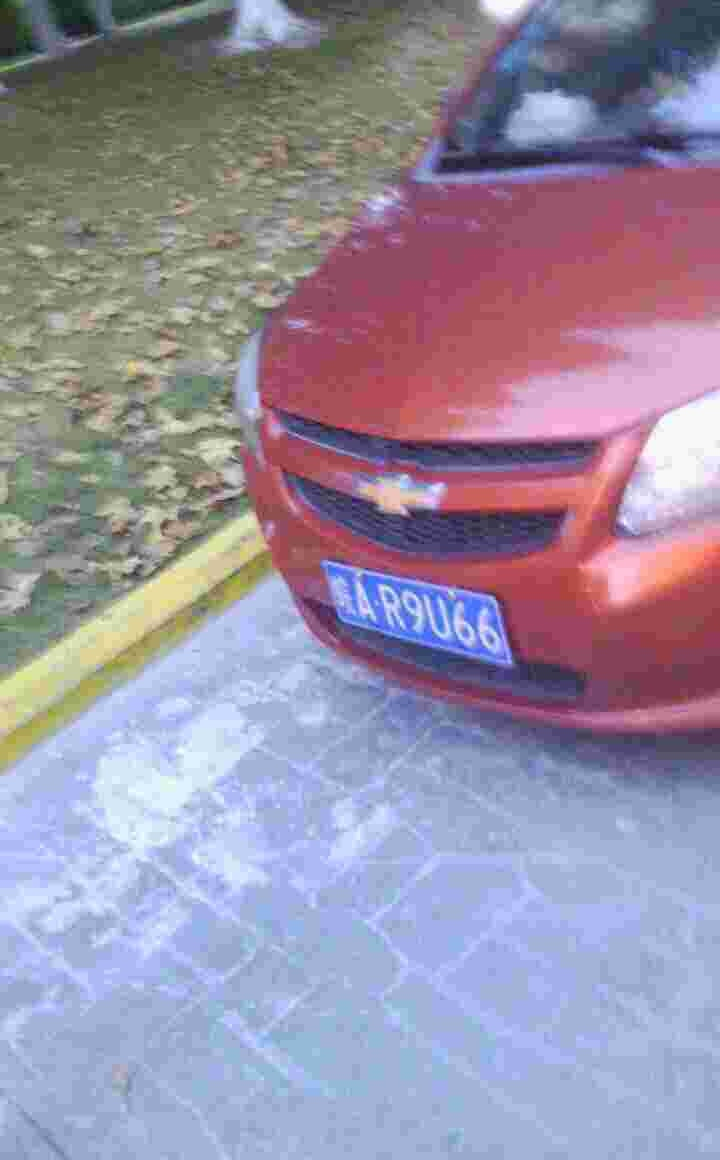car: (325, 561, 519, 668)
